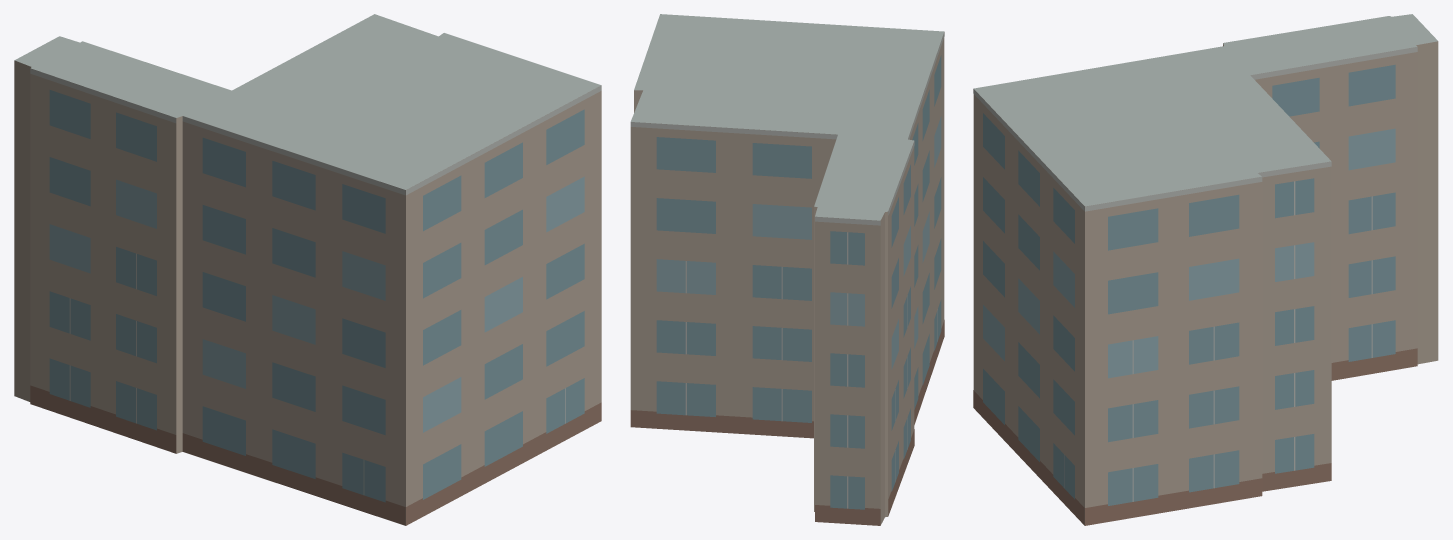
File: survey-upis-32605226.glb
3 views of the same model, side by side, from view 1: azimuth 30°, elevation 25°; view 2: azimuth 150°, elevation 25°; view 3: azimuth 270°, elevation 25° (orthographic). The views are drawn at different scales.
Visible parts, largest first — view 1: survey-upis-32605226.tmp; view 2: survey-upis-32605226.tmp; view 3: survey-upis-32605226.tmp.
Boxes of the visible parts, box(x1,y1,x2,y2) form: survey-upis-32605226.tmp: box(14, 14, 601, 525); survey-upis-32605226.tmp: box(630, 14, 944, 525); survey-upis-32605226.tmp: box(973, 14, 1438, 525).
Size of the model in its own units: 19.46 by 15.05 by 19.86.
